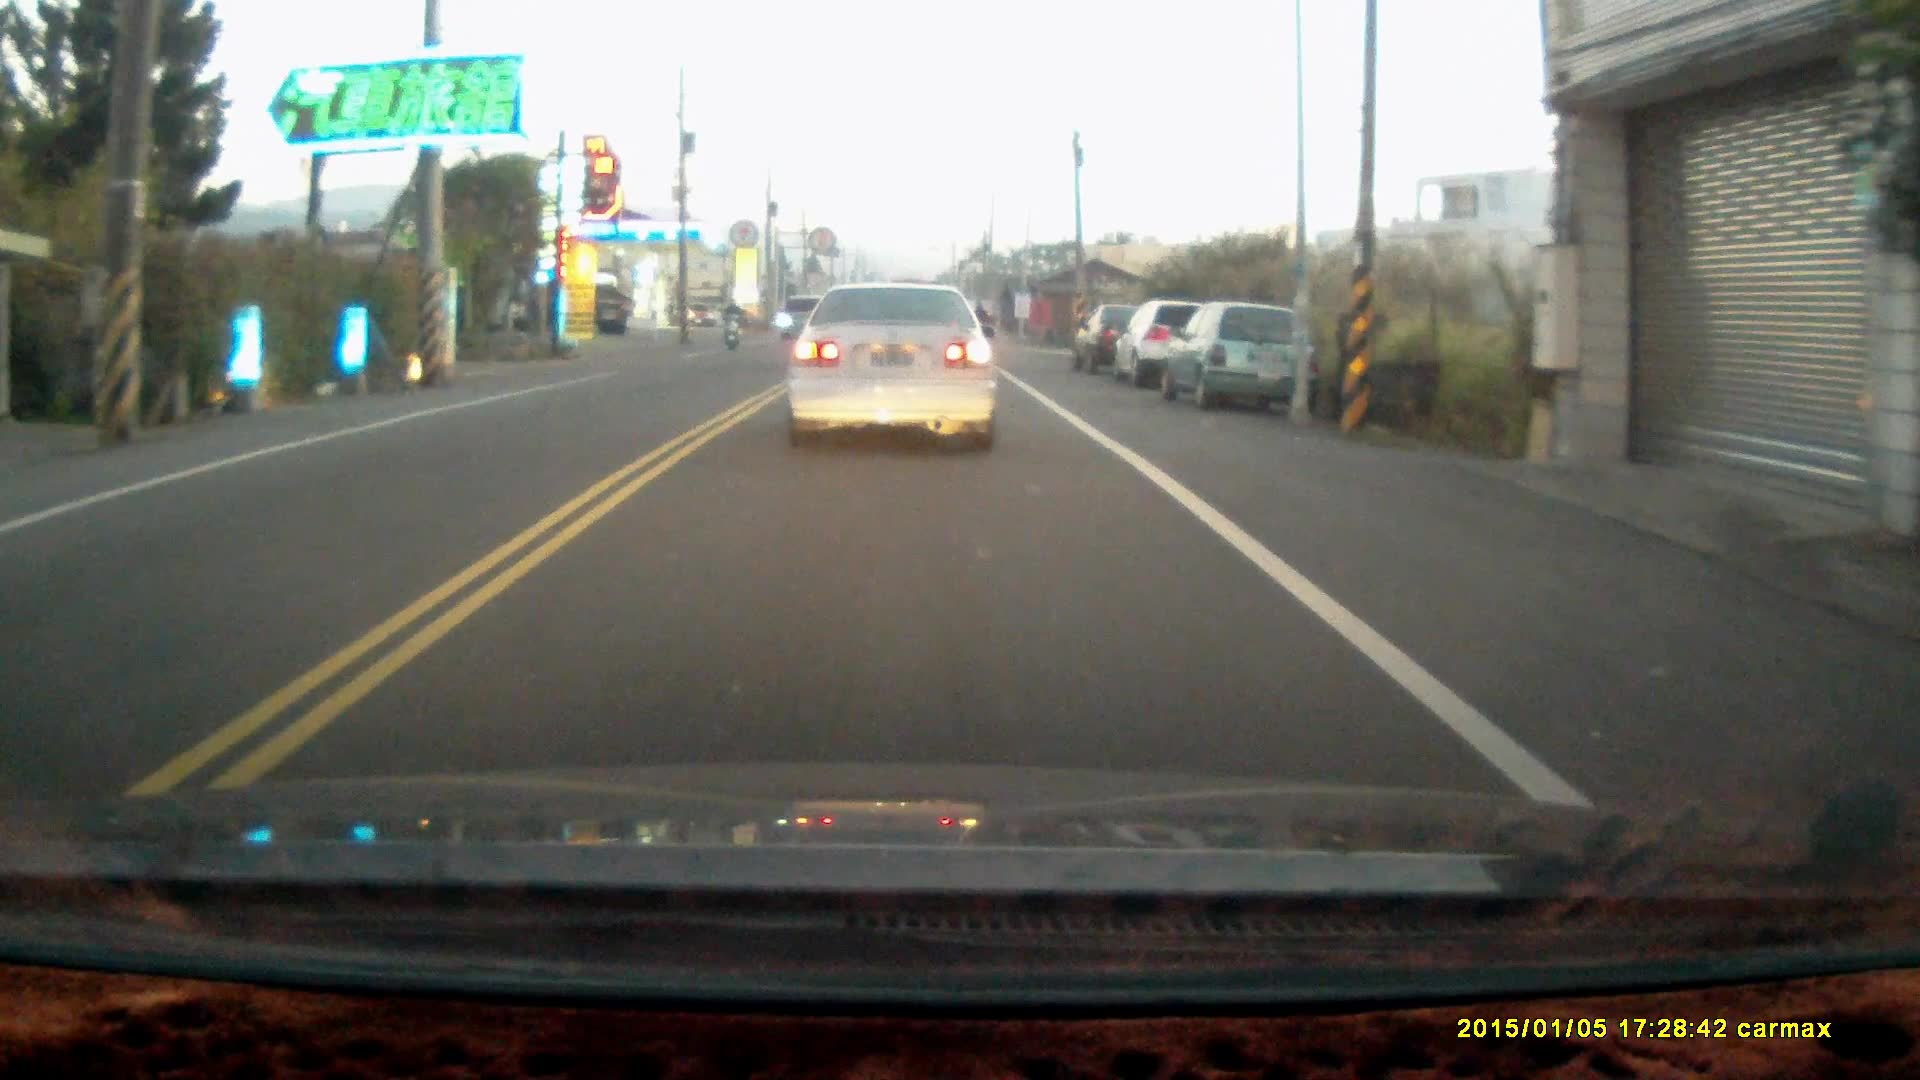rider: (720, 297, 743, 351)
vehicle: (781, 278, 1000, 459), (1168, 303, 1318, 412), (1117, 301, 1249, 393), (1072, 303, 1177, 379)
